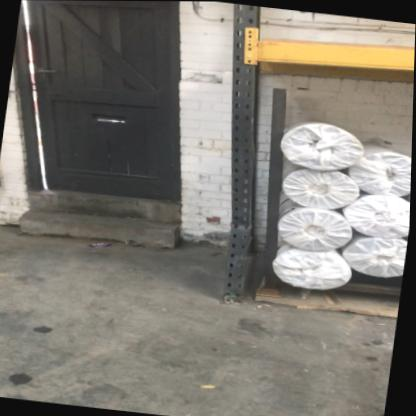vertical_damage: (226, 201, 265, 252)
